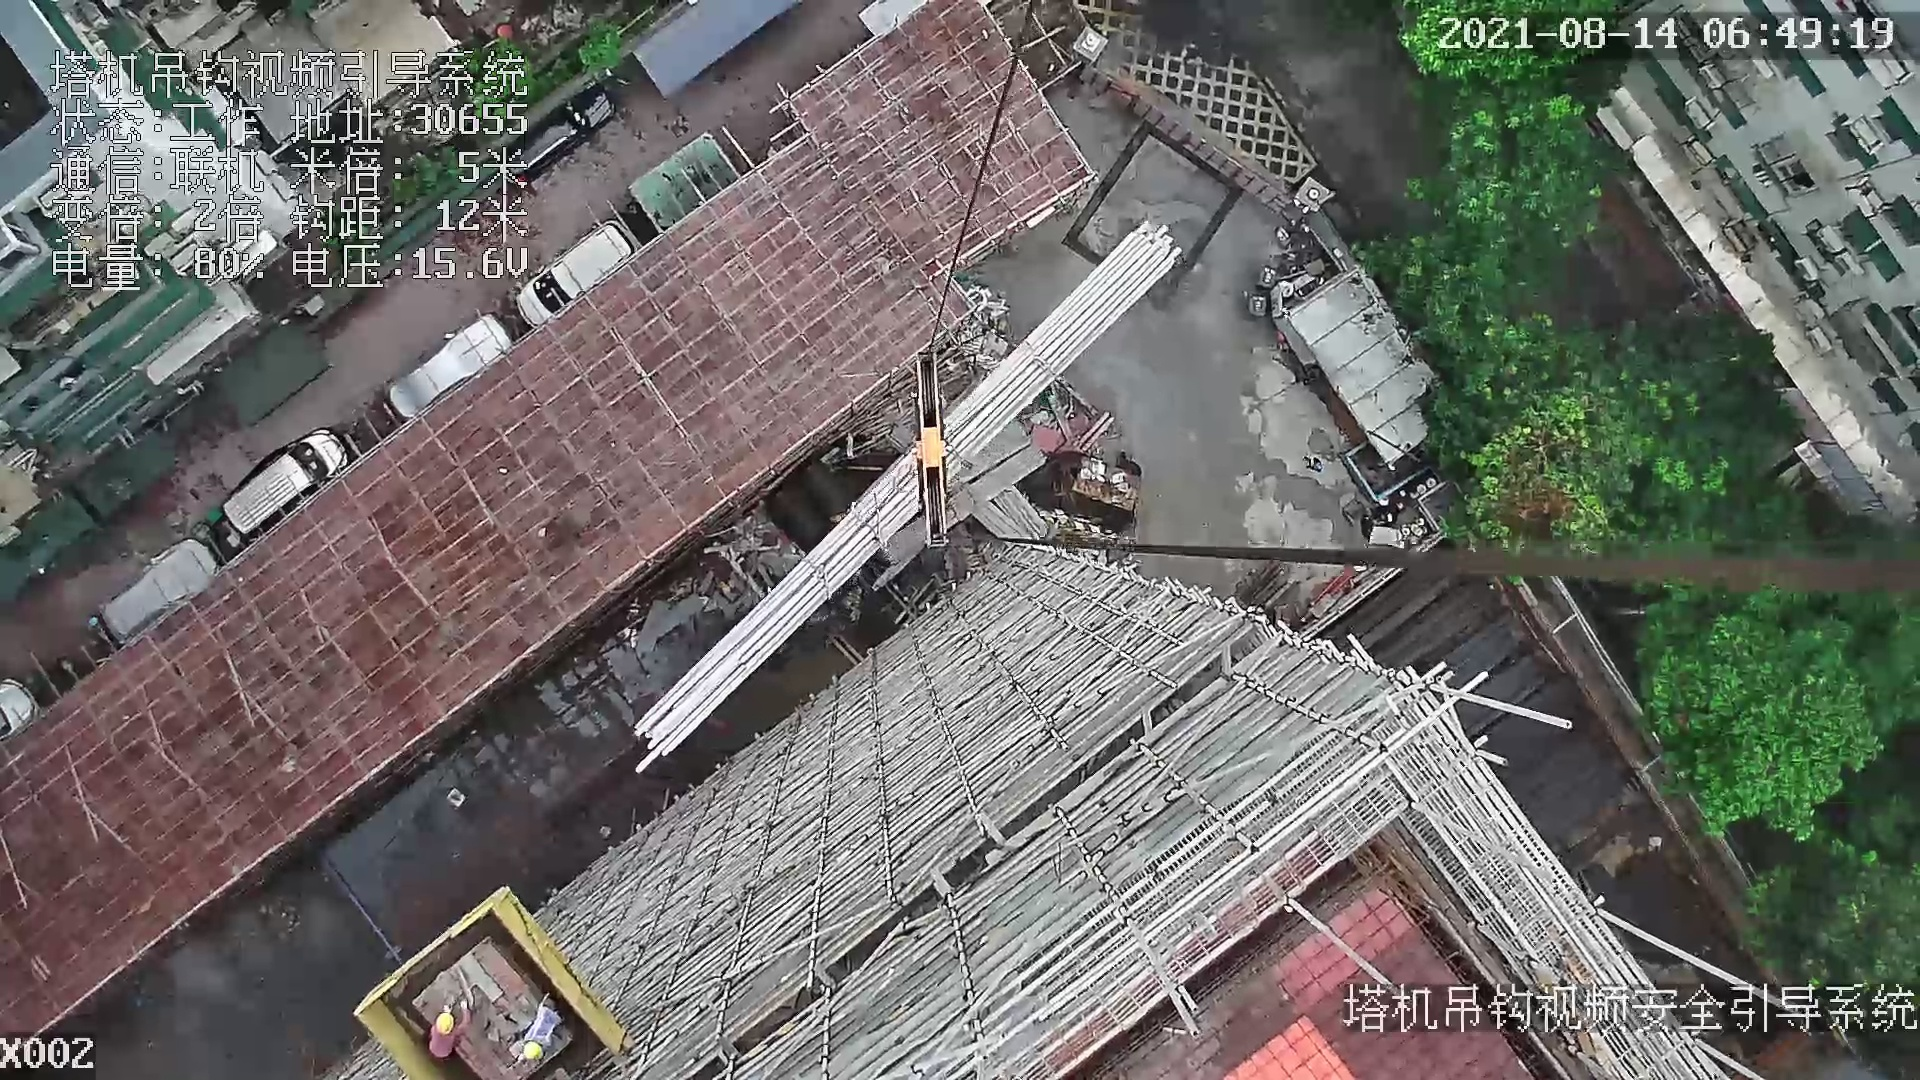helmet: (522, 1045, 545, 1064), (436, 1015, 456, 1035)
hook: (905, 346, 965, 550)
hopper: (1340, 443, 1438, 504)
person: (503, 1000, 563, 1080), (422, 987, 489, 1058), (1303, 452, 1330, 475)
